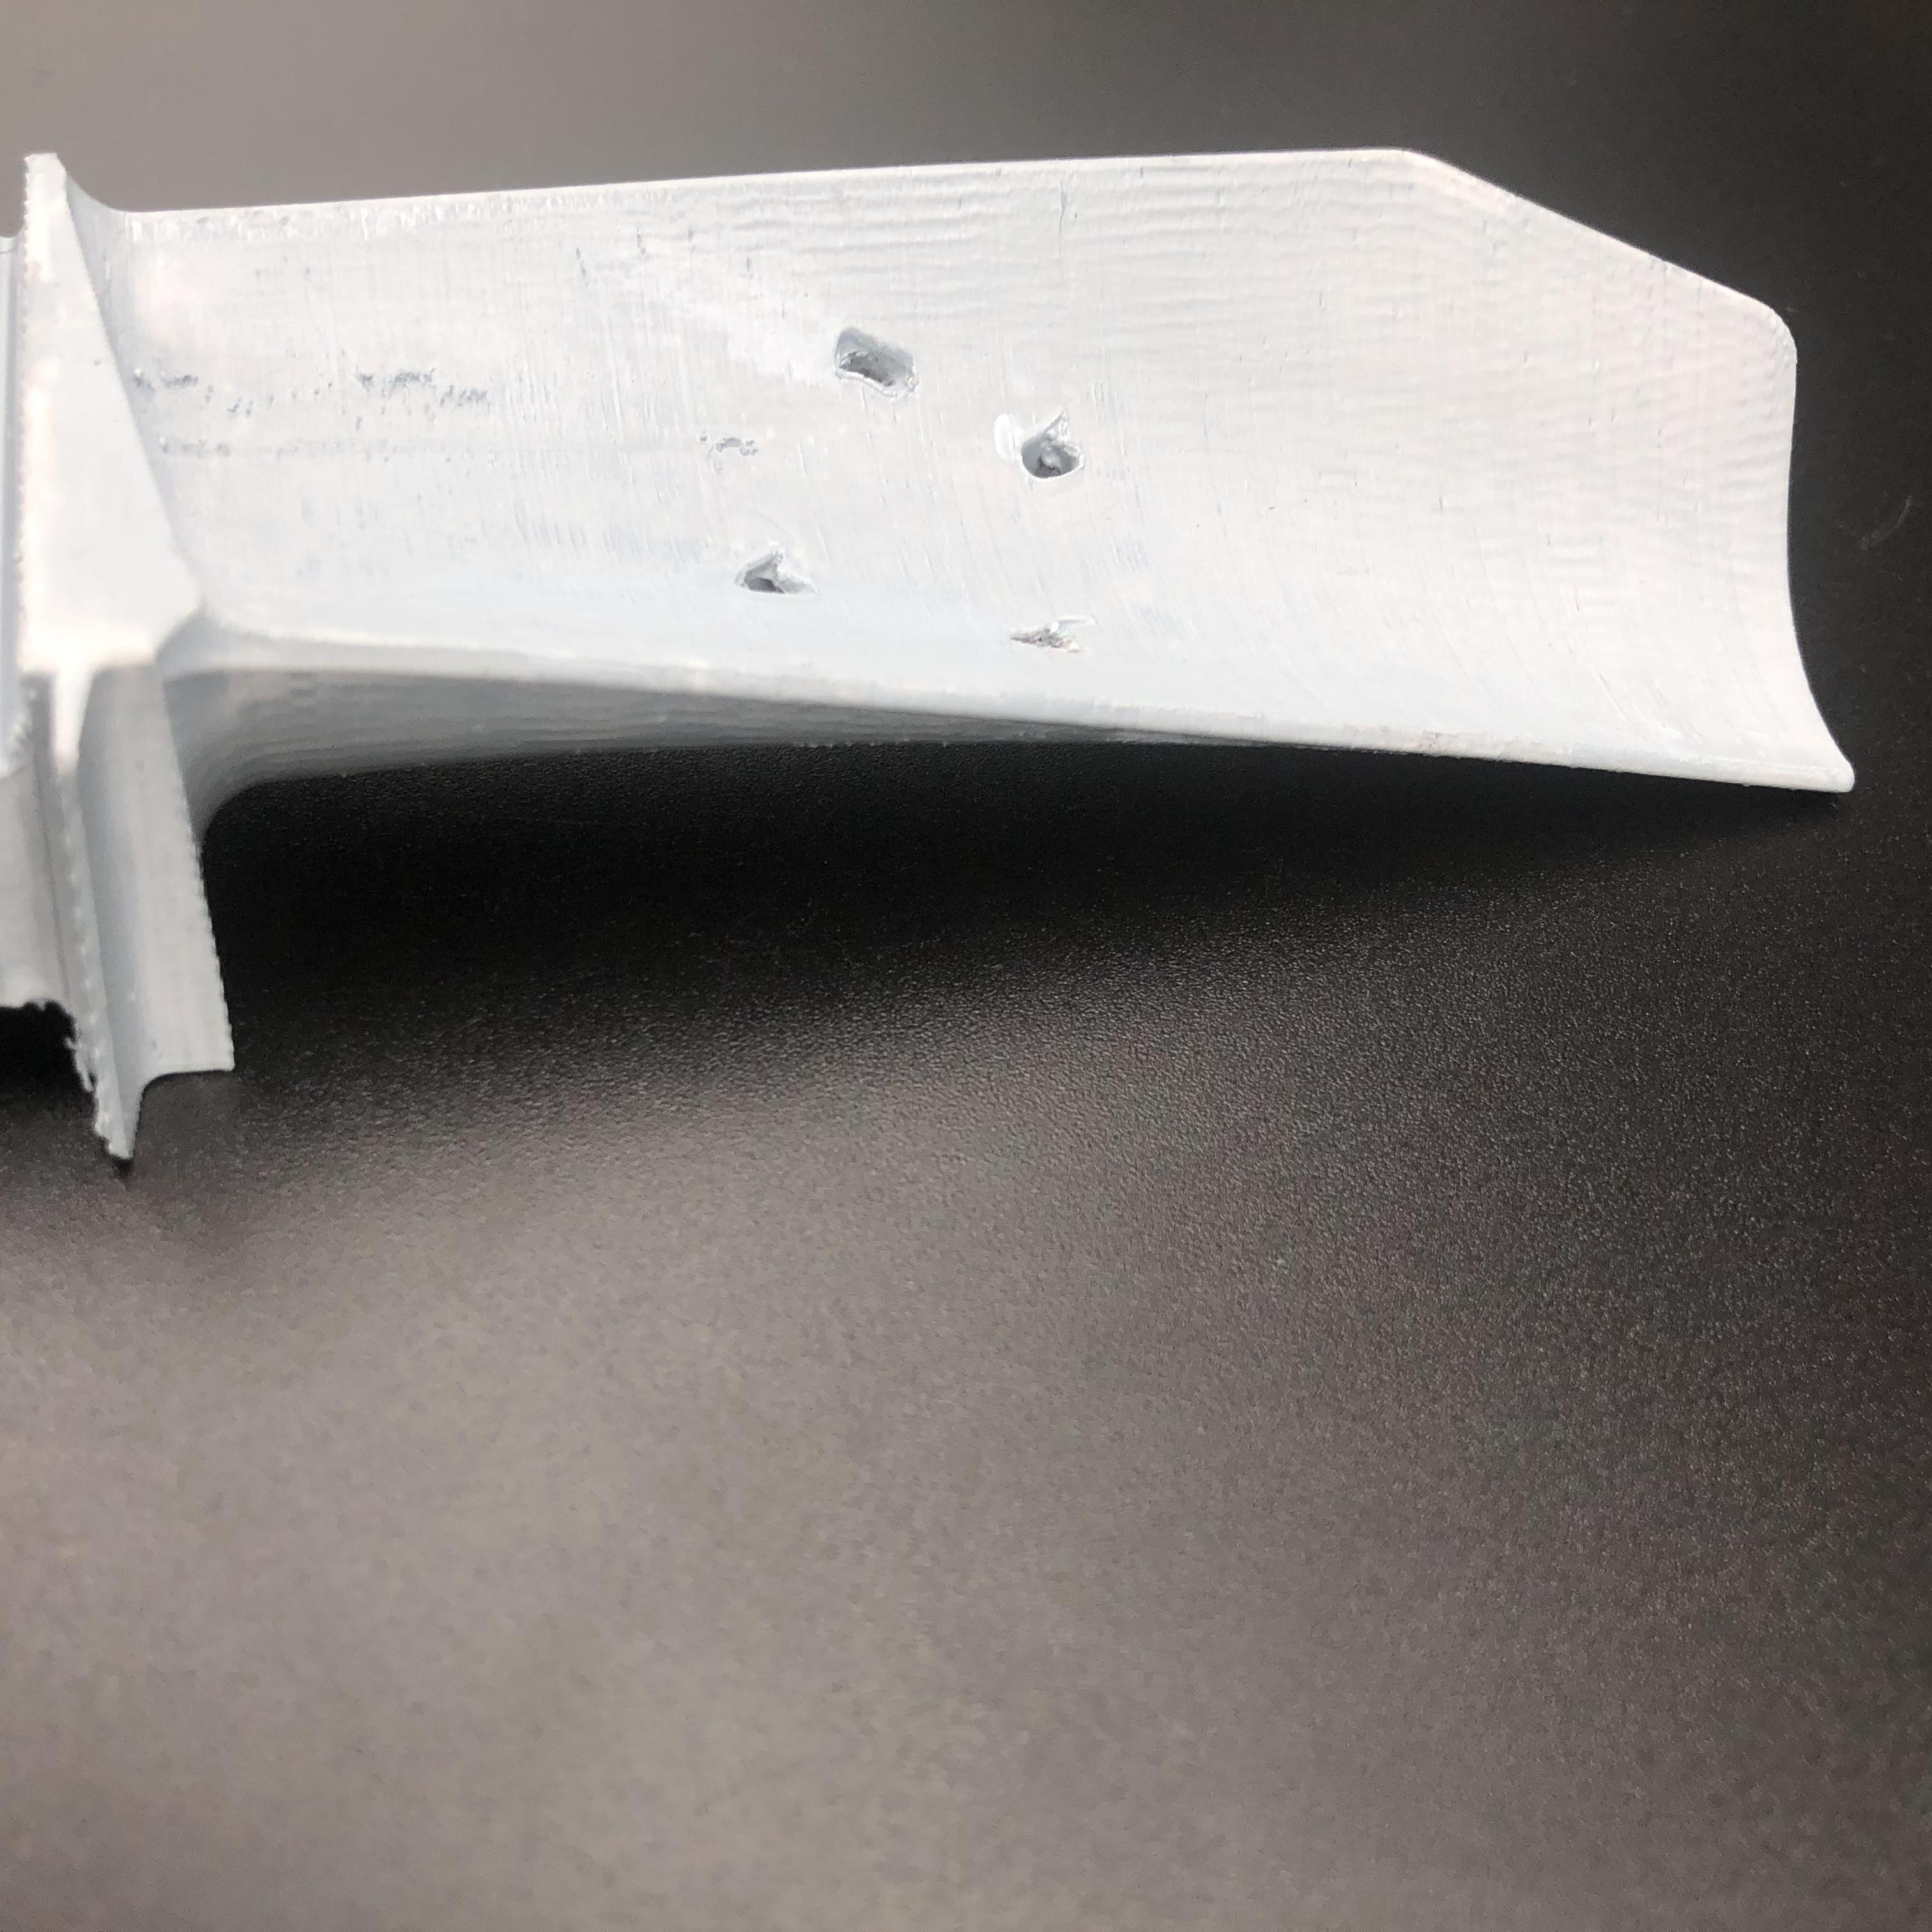breakdown: (731, 334, 1086, 658)
